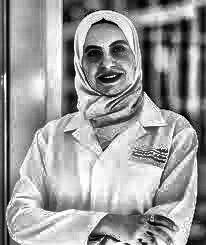happy: (68, 12, 150, 132)
